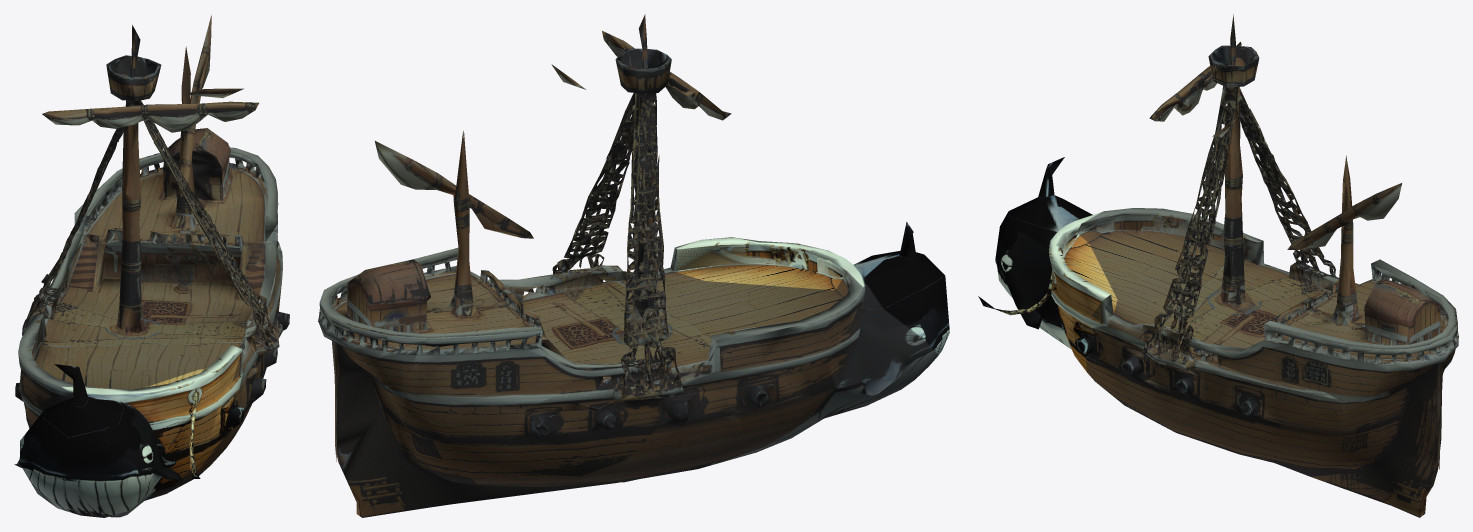
Rendered from 03_ShipDeck.fbx.
3 renders of one model, left to right at view 1: azimuth 30°, elevation 25°; view 2: azimuth 150°, elevation 25°; view 3: azimuth 270°, elevation 25°, orthographic. The views are drawn at different scales.
Visible parts, largest first — view 1: texture_mapping.002; view 2: texture_mapping.002; view 3: texture_mapping.002.
Boxes of the visible parts, x1,y1,x2,y2 form: texture_mapping.002: [14, 15, 289, 517]; texture_mapping.002: [318, 14, 949, 517]; texture_mapping.002: [978, 14, 1458, 517].
Bounding box in the file's own units: 9.28 × 9.68 × 9.98.
Materials: 1 (1 with a texture image).
